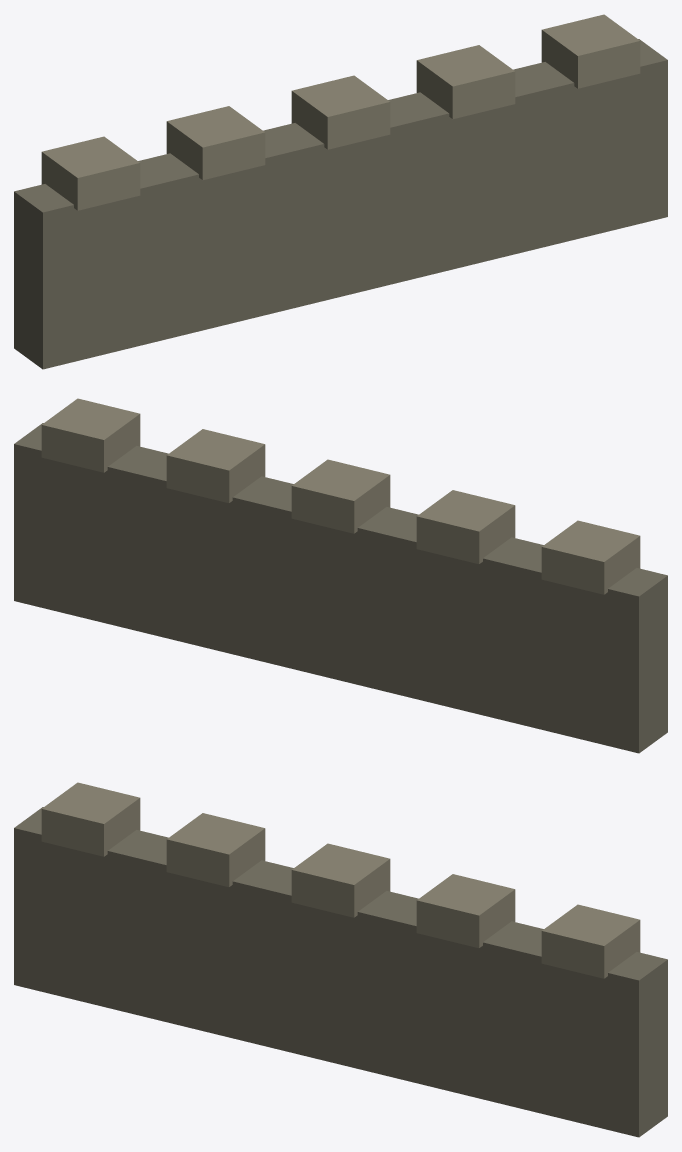
The model's file is wall.glb.
3 renders of one model, top to bottom at view 1: azimuth 30°, elevation 25°; view 2: azimuth 150°, elevation 25°; view 3: azimuth 330°, elevation 25°, orthographic.
Visible parts, largest first — view 1: wall; view 2: wall; view 3: wall.
Boxes of the visible parts, x1,y1,x2,y2 form: wall: (14, 14, 667, 369); wall: (14, 398, 667, 753); wall: (14, 782, 667, 1137).
Size of the model in its own units: 10 by 2.85 by 1.
